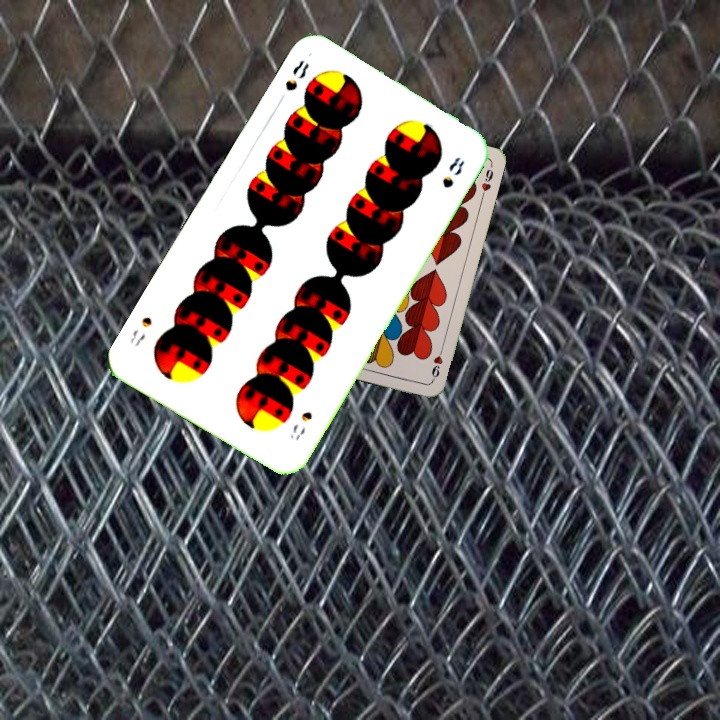H9: (428, 344, 445, 384)
S8: (281, 56, 312, 94), (285, 407, 315, 443)
